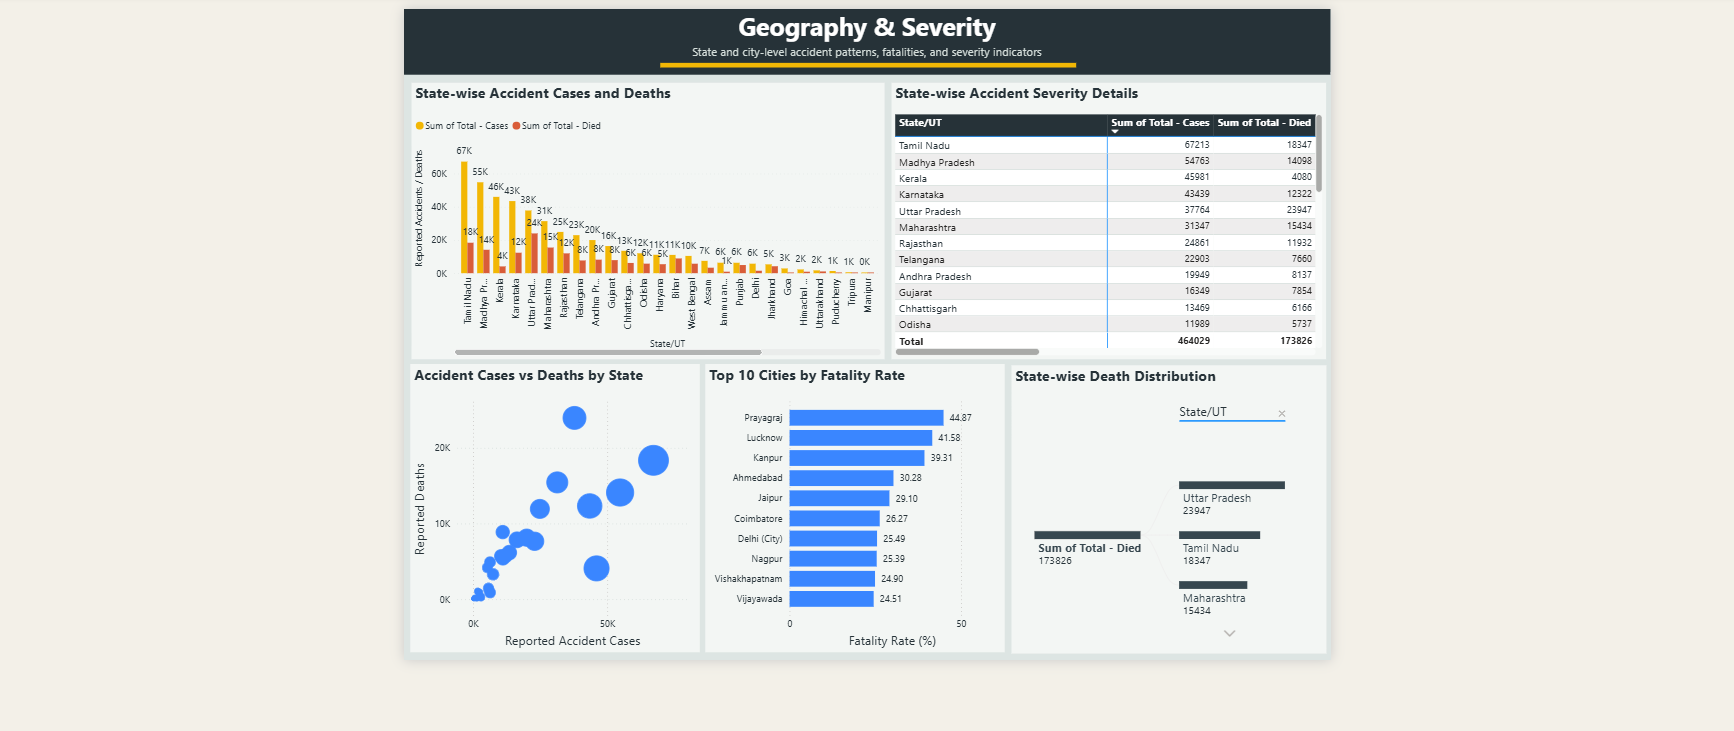

The dashboard page shown, as its layout file describes it:
{"tool":"powerbi","page":{"name":"Page 2","canvas":[1196,840],"ordinal":1},"visuals":[{"type":"clusteredColumnChart","title":"State-wise Accident Cases and Deaths","fields":{"Category":["road_classification_cleaned.State/UT"],"Y":["Sum(road_classification_cleaned.Total - Cases)","Sum(road_classification_cleaned.Total - Died)"]},"box":[9,95.5,610.7,356.7],"z":0},{"type":"scatterChart","title":"Accident Cases vs Deaths by State","fields":{"X":["Sum(road_classification_cleaned.Total - Cases)"],"Y":["Sum(road_classification_cleaned.Total - Died)"],"Category":["road_classification_cleaned.State/UT"],"Size":["Sum(road_classification_cleaned.Total - Cases)"]},"box":[8.3,458,373.3,372],"z":1000},{"type":"clusteredBarChart","title":"Top 10 Cities by Fatality Rate","fields":{"Category":["road_classification_cleaned.State/UT"],"Y":["Avg(road_classification_cleaned.Fatality Rate (%))"]},"box":[388.3,458.3,386.7,371.7],"z":2000},{"type":"decompositionTreeVisual","title":"State-wise Death Distribution","fields":{"Analyze":["Sum(road_classification_cleaned.Total - Died)"],"ExplainBy":["road_classification_cleaned.State/UT"]},"box":[783.3,459.3,406.7,372.3],"z":3000},{"type":"pivotTable","title":"State-wise Accident Severity Details","fields":{"Rows":["road_classification_cleaned.State/UT"],"Values":["Sum(road_classification_cleaned.Total - Cases)","Sum(road_classification_cleaned.Total - Died)","Sum(road_classification_cleaned.Total - Injured)","Avg(road_classification_cleaned.Injury Rate (%))","Avg(road_classification_cleaned.Fatality Rate (%))"]},"box":[628.4,95.5,561.2,356.7],"z":4000},{"type":"textbox","title":"Geography & Severity","box":[0,0,1195,85],"z":5000},{"type":"shape","box":[330,0,536.7,145],"z":6000}]}

Visuals, with their boxes on the page's 1196x840 design canvas (x1, y1, x2, y2). These are canvas units, not pixel positions in the 1734x731 screenshot, which may show the page scaled, cropped or inside an application window:
"State-wise Accident Cases and Deaths" clusteredColumnChart: (x1=9, y1=96, x2=620, y2=452)
"Accident Cases vs Deaths by State" scatterChart: (x1=8, y1=458, x2=382, y2=830)
"Top 10 Cities by Fatality Rate" clusteredBarChart: (x1=388, y1=458, x2=775, y2=830)
"State-wise Death Distribution" decompositionTreeVisual: (x1=783, y1=459, x2=1190, y2=832)
"State-wise Accident Severity Details" pivotTable: (x1=628, y1=96, x2=1190, y2=452)
"Geography & Severity" textbox: (x1=0, y1=0, x2=1195, y2=85)
shape: (x1=330, y1=0, x2=867, y2=145)
